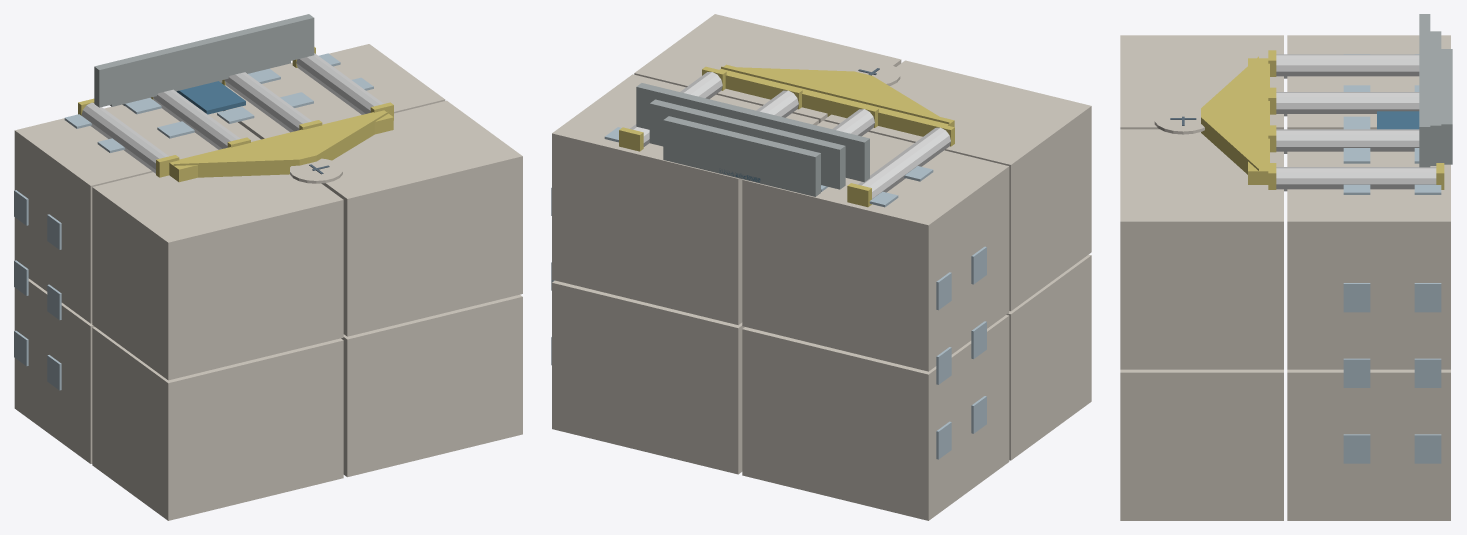
The model's file is building-bank.glb.
3 renders of one model, left to right at view 1: azimuth 30°, elevation 25°; view 2: azimuth 150°, elevation 25°; view 3: azimuth 270°, elevation 25°, orthographic. The views are drawn at different scales.
Visible parts, largest first — view 1: world; view 2: world; view 3: world.
Part boxes in pixels (left/top/right/bottom): world: left=14, top=14, right=522, bottom=520; world: left=551, top=14, right=1091, bottom=520; world: left=1120, top=14, right=1452, bottom=520.
Bounding box in the file's own units: 20.36 × 17.73 × 14.93.
